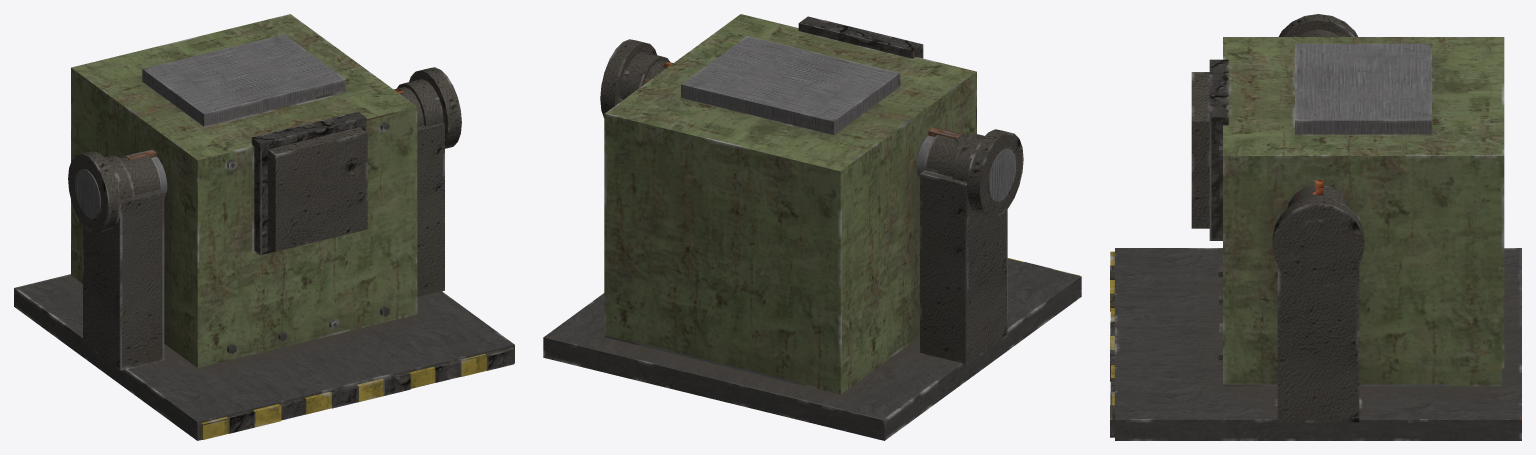
The model's file is feDeployer_HD.fbx.
The picture shows the model from 3 angles, left to right: view 1: azimuth 30°, elevation 25°; view 2: azimuth 150°, elevation 25°; view 3: azimuth 270°, elevation 25°; orthographic projection. The views are drawn at different scales.
Parts seen in each view (by area): view 1: feDeployer_Base, FeHead_Ram, FeSpin_DriveShaft; view 2: feDeployer_Base, FeSpin_DriveShaft; view 3: feDeployer_Base, FeSpin_DriveShaft, FeHead_Ram.
Boxes of the visible parts, x1,y1,x2,y2 form: feDeployer_Base: [14, 14, 514, 440]; FeHead_Ram: [267, 127, 367, 251]; FeSpin_DriveShaft: [68, 67, 461, 233]; feDeployer_Base: [543, 14, 1081, 440]; FeSpin_DriveShaft: [600, 39, 1023, 217]; feDeployer_Base: [1110, 37, 1521, 440]; FeSpin_DriveShaft: [1272, 14, 1364, 287]; FeHead_Ram: [1191, 72, 1209, 228].
Size of the model in its own units: 1 by 0.6674 by 0.9121.
Materials: 1 (1 with a texture image).
